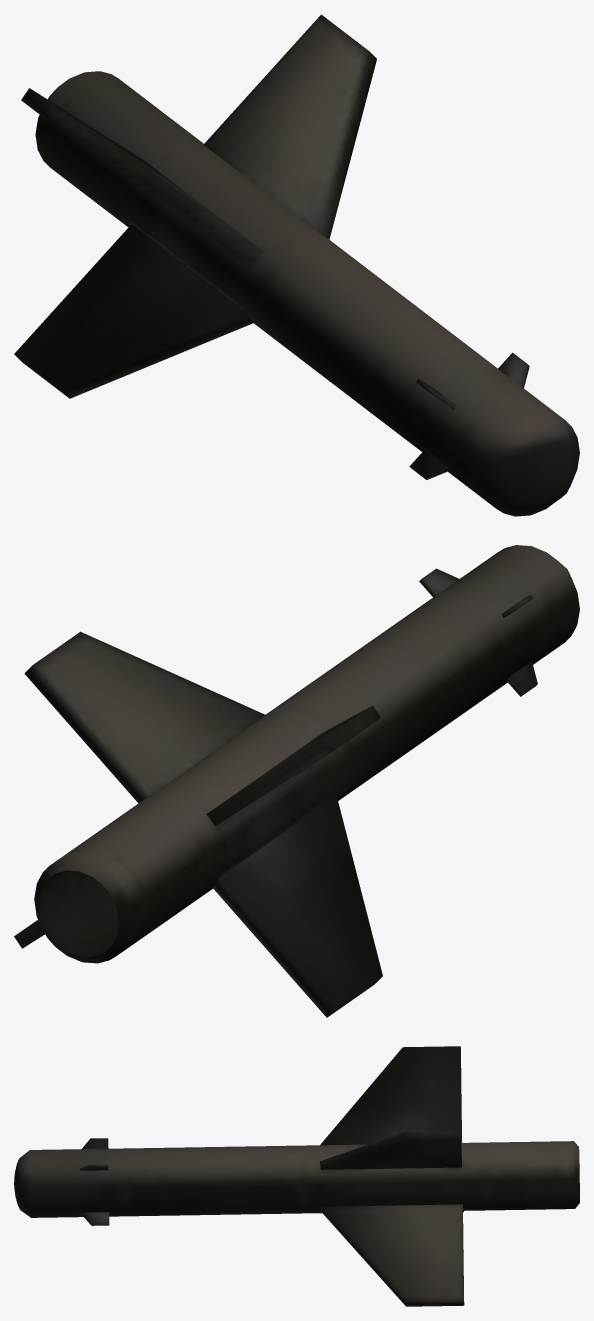
File: missile.glb
3 views of the same model, one above another, from view 1: azimuth 30°, elevation 25°; view 2: azimuth 150°, elevation 25°; view 3: azimuth 270°, elevation 25° (orthographic). The views are drawn at different scales.
Parts seen in each view (by area): view 1: missile_low__0; view 2: missile_low__0; view 3: missile_low__0.
Part boxes in pixels (left/top/right/bottom): missile_low__0: left=14, top=14, right=579, bottom=516; missile_low__0: left=14, top=545, right=579, bottom=1017; missile_low__0: left=14, top=1046, right=579, bottom=1306.
Bounding box in the file's own units: 56.11 × 47.6 × 141.
1 material, 1 textured.
